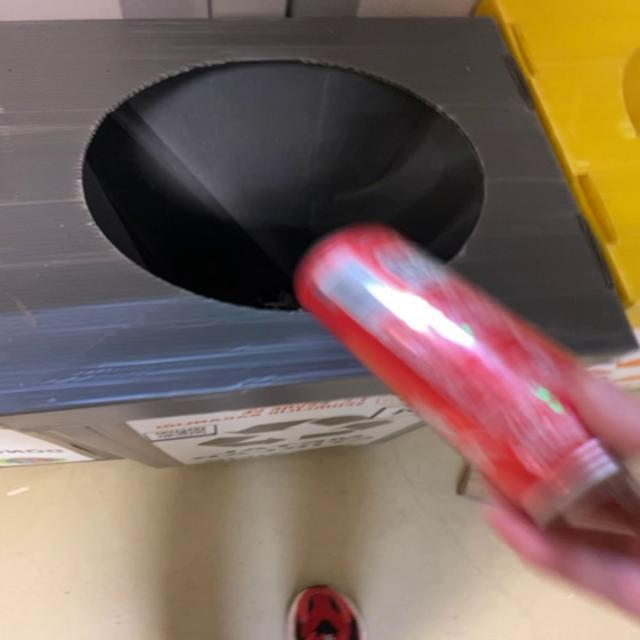Bin: (0, 17, 637, 466)
Metal: (296, 223, 640, 555)
